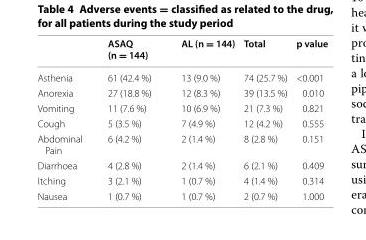table: (36, 36, 327, 201)
table column: (165, 36, 238, 201), (94, 36, 165, 201), (36, 36, 94, 201), (238, 36, 291, 201), (291, 36, 327, 201)
table column header: (36, 36, 327, 69)
table row: (36, 36, 327, 69), (36, 130, 327, 157), (36, 84, 327, 100), (36, 172, 327, 188), (36, 69, 327, 84), (36, 100, 327, 115), (36, 115, 327, 130), (36, 157, 327, 172), (36, 188, 327, 201)
